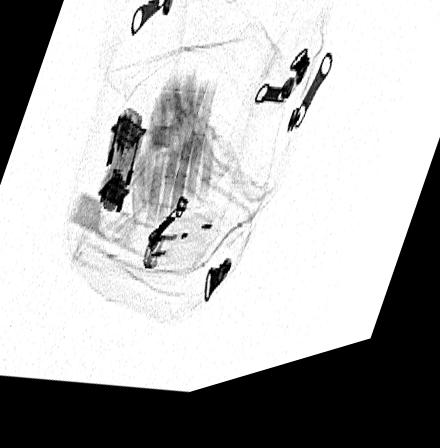Lighter: (138, 228, 216, 278)
